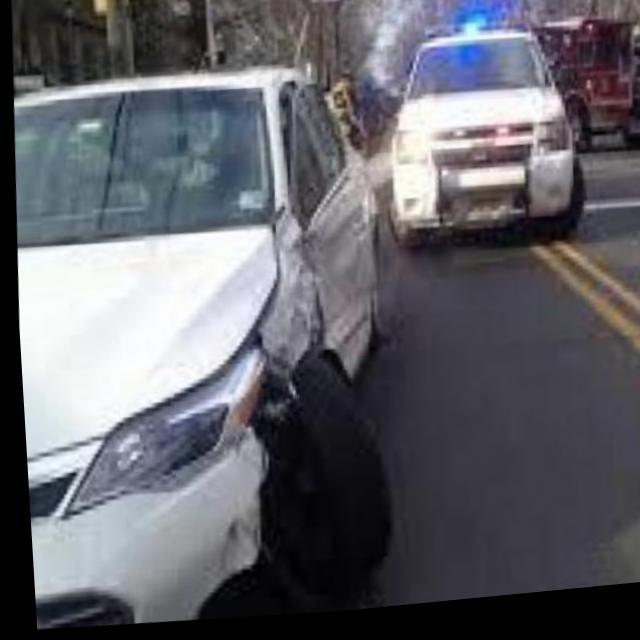no part: (174, 221, 323, 623)
